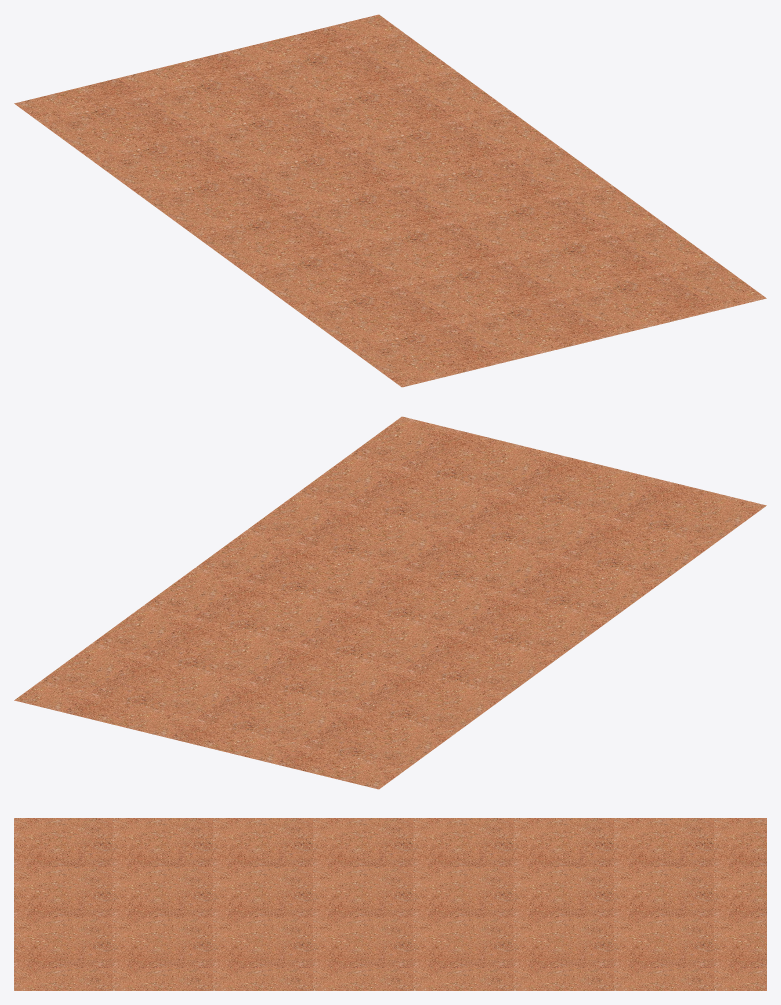
Rendered from TennisCourtAround.fbx.
3 renders of one model, top to bottom at view 1: azimuth 30°, elevation 25°; view 2: azimuth 150°, elevation 25°; view 3: azimuth 270°, elevation 25°, orthographic. The views are drawn at different scales.
Parts seen in each view (by area): view 1: pPlane1; view 2: pPlane1; view 3: pPlane1.
Part boxes in pixels (box(x1,y1,x2,y2)): pPlane1: box(14, 14, 766, 387); pPlane1: box(14, 416, 766, 789); pPlane1: box(14, 818, 766, 990).
Size of the model in its own units: 33.22 by 0 by 61.17.
1 material, 1 textured.
